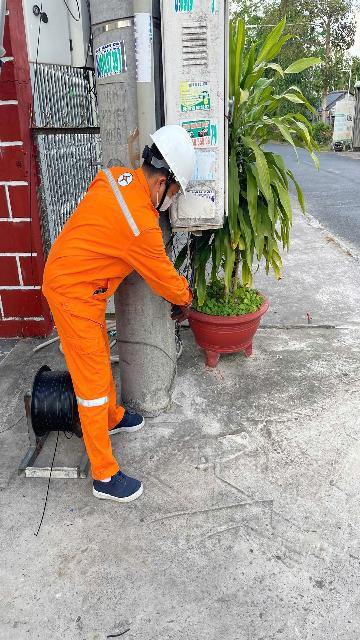gloves: (172, 288, 200, 332)
helmet: (145, 114, 210, 203)
shoes: (87, 461, 147, 505), (99, 407, 163, 435)
